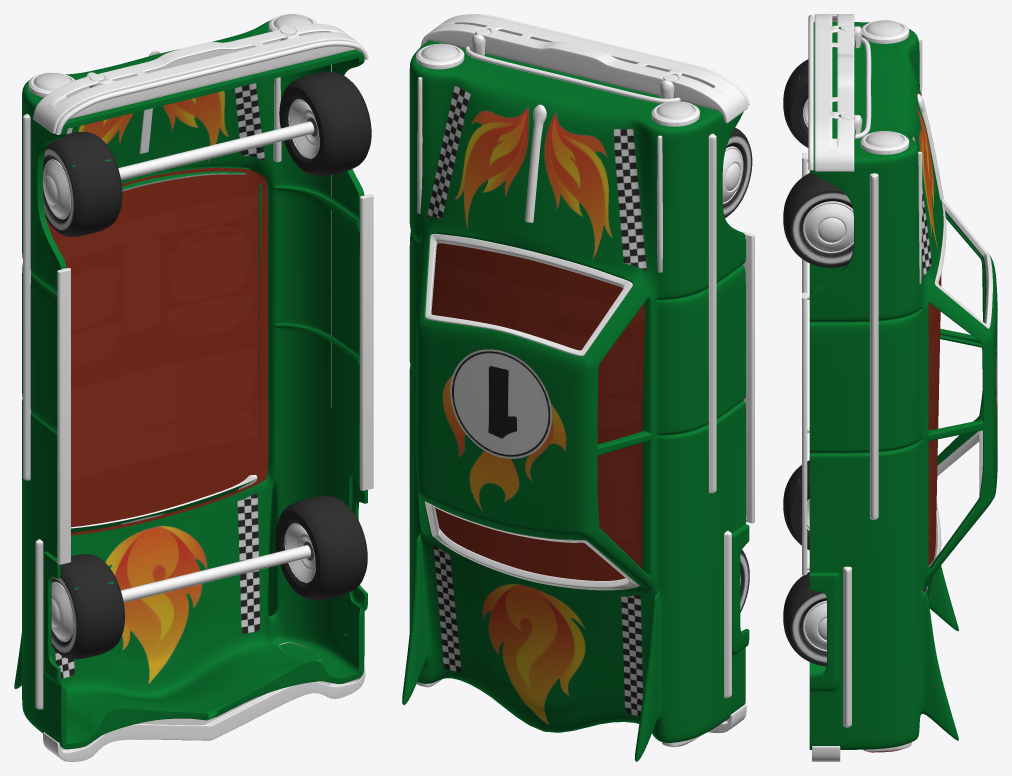
File: ToyCar.gltf
3 views of the same model, side by side, from view 1: azimuth 30°, elevation 25°; view 2: azimuth 150°, elevation 25°; view 3: azimuth 270°, elevation 25° (orthographic). The views are drawn at different scales.
Parts seen in each view (by area): view 1: ToyCar; view 2: ToyCar; view 3: ToyCar.
Boxes of the visible parts, x1,y1,x2,y2 form: ToyCar: [14, 14, 373, 761]; ToyCar: [402, 14, 754, 761]; ToyCar: [783, 14, 997, 761].
Bounding box in the file's own units: 187 × 384 × 116.
Materials: 1 (1 with a texture image).
